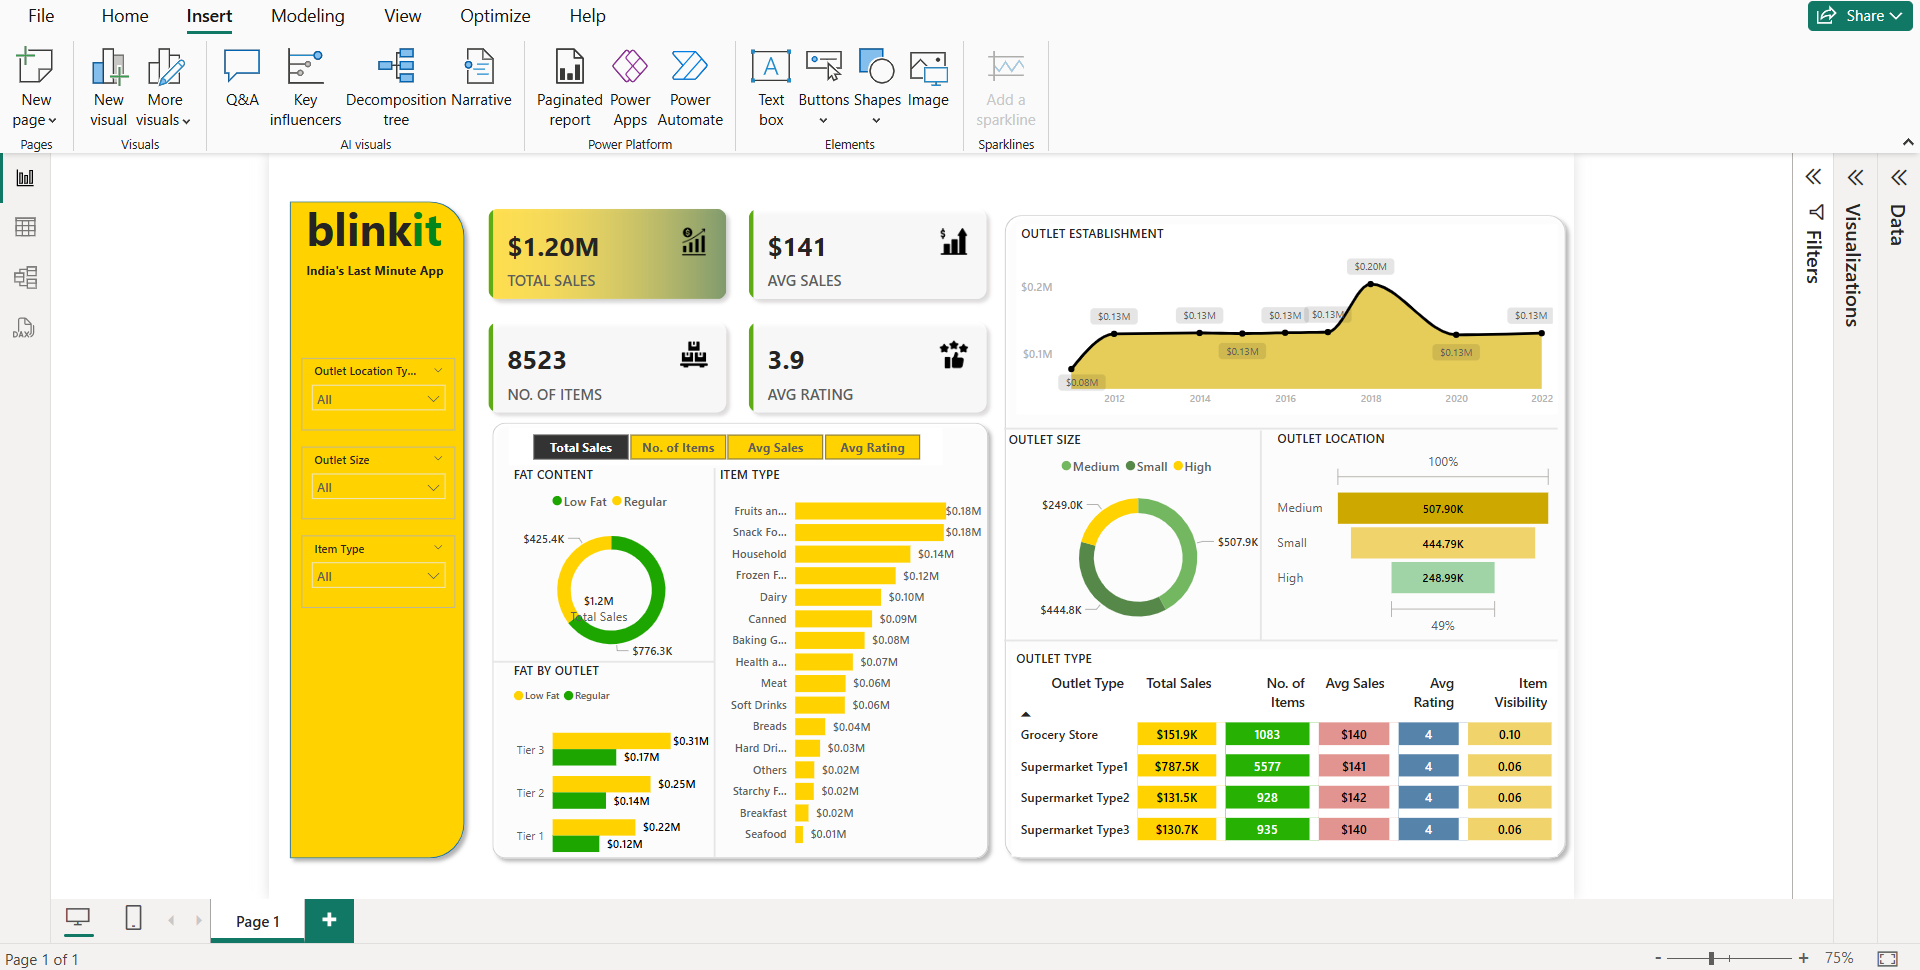

The dashboard page shown, as its layout file describes it:
{"tool":"powerbi","page":{"name":"Page 1","canvas":[1400,800],"ordinal":0},"visuals":[{"type":"shape","box":[13.4,42.9,205.1,722.5],"z":0},{"type":"textbox","box":[34.9,42.9,195.7,84.5],"z":1000},{"type":"textbox","box":[34.9,111.3,174.3,33.5],"z":2000},{"type":"cardVisual","fields":{"Data":["BlinkIT Grocery Data.Total Sales","BlinkIT Grocery Data.Avg Sales","BlinkIT Grocery Data.No. of Items","BlinkIT Grocery Data.Avg Rating"]},"box":[218.5,42.9,569.7,252],"z":3000},{"type":"shape","box":[230.6,280.2,549.6,485.3],"z":4000},{"type":"donutChart","title":" FAT CONTENT","fields":{"Category":["BlinkIT Grocery Data.Item Fat Content"],"Y":["BlinkIT Grocery Data.Total Sales"]},"box":[257.4,335.1,219.8,220],"z":4001},{"type":"slicer","fields":{"Values":["Metrics.Metrics"]},"box":[257.4,294.9,465.1,40.2],"z":4002},{"type":"cardVisual","fields":{"Data":["BlinkIT Grocery Data.Total Sales"]},"box":[296.2,446.4,115.3,85.8],"z":4003},{"type":"clusteredBarChart","title":"FAT BY OUTLET","fields":{"Y":["BlinkIT Grocery Data.Total Sales"],"Category":["BlinkIT Grocery Data.Outlet Location Type"],"Series":["BlinkIT Grocery Data.Item Fat Content"]},"box":[257.4,545.6,219.8,229.2],"z":4004},{"type":"shape","box":[239.9,411.5,237.3,268.1],"z":4005},{"type":"shape","box":[376.7,337.8,202.4,416.9],"z":4006},{"type":"barChart","title":"ITEM TYPE","fields":{"Category":["BlinkIT Grocery Data.Item Type"],"Y":["BlinkIT Grocery Data.Total Sales"]},"box":[478.6,335.1,290.9,419.6],"z":4007},{"type":"shape","box":[780.2,42.9,619.3,722.5],"z":4008},{"type":"lineChart","fields":{"Category":["BlinkIT Grocery Data.Outlet Establishment Year"],"Y":["BlinkIT Grocery Data.Total Sales"]},"box":[800.3,57.6,577.8,277.5],"z":4009}]}

Visuals, with their boxes on the page's 1400x800 design canvas (x1, y1, x2, y2). These are canvas units, not pixel positions in the 1920x970 screenshot, which may show the page scaled, cropped or inside an application window:
shape: locate(13, 43, 218, 765)
textbox: locate(35, 43, 231, 127)
textbox: locate(35, 111, 209, 145)
cardVisual - BlinkIT Grocery Data.Total Sales x BlinkIT Grocery Data.Avg Sales: locate(218, 43, 788, 295)
shape: locate(231, 280, 780, 766)
" FAT CONTENT" donutChart: locate(257, 335, 477, 555)
slicer - Metrics.Metrics: locate(257, 295, 722, 335)
cardVisual - BlinkIT Grocery Data.Total Sales: locate(296, 446, 412, 532)
"FAT BY OUTLET" clusteredBarChart: locate(257, 546, 477, 775)
shape: locate(240, 412, 477, 680)
shape: locate(377, 338, 579, 755)
"ITEM TYPE" barChart: locate(479, 335, 770, 755)
shape: locate(780, 43, 1400, 765)
lineChart - BlinkIT Grocery Data.Outlet Establishment Year x BlinkIT Grocery Data.Total Sales: locate(800, 58, 1378, 335)
